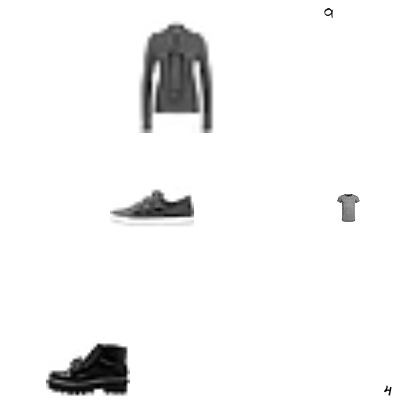4: (381, 383, 395, 397)
9: (322, 5, 336, 19)
Ankle_boot: (46, 326, 130, 410)
Pullover: (120, 21, 232, 133)
Sneaker: (110, 163, 194, 247)
T-shirt/top: (334, 194, 362, 222)
